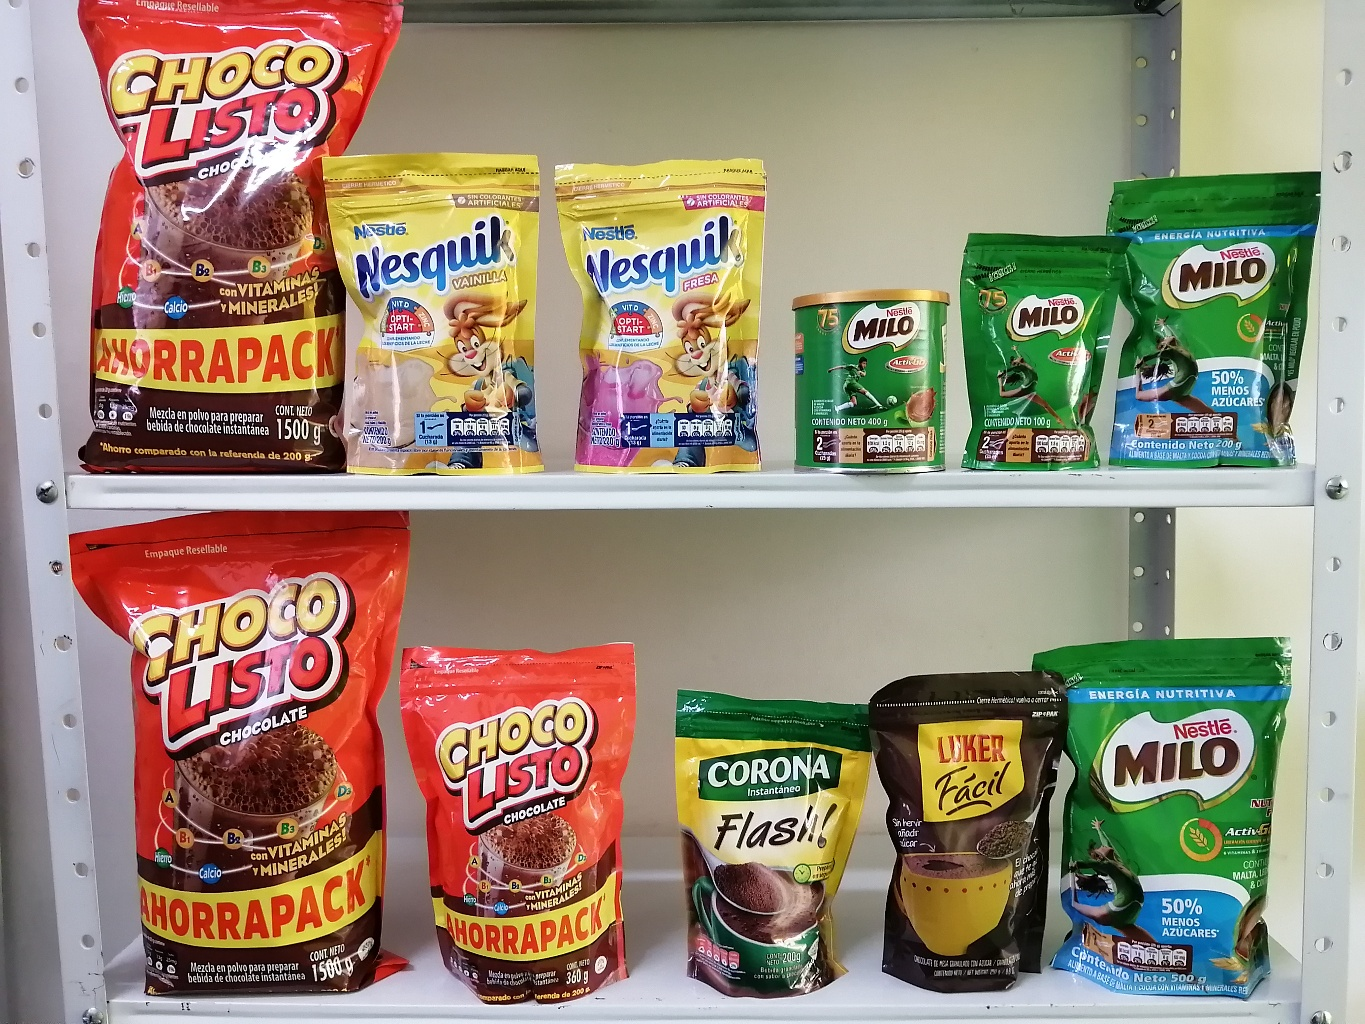COL0170103DYP1,500: (51, 0, 400, 478)
COL0170103DYP36000: (402, 639, 654, 1010)
COL0170203DYP10000: (964, 222, 1123, 477)
COL0170203LAT40000: (790, 276, 959, 484)
COL0170205DYP20000: (1100, 170, 1324, 458)
COL0170205DYP50000: (1035, 616, 1295, 1014)
COL0170305DYP20000: (559, 157, 780, 473)
COL0170306DYP20000: (319, 151, 555, 477)
